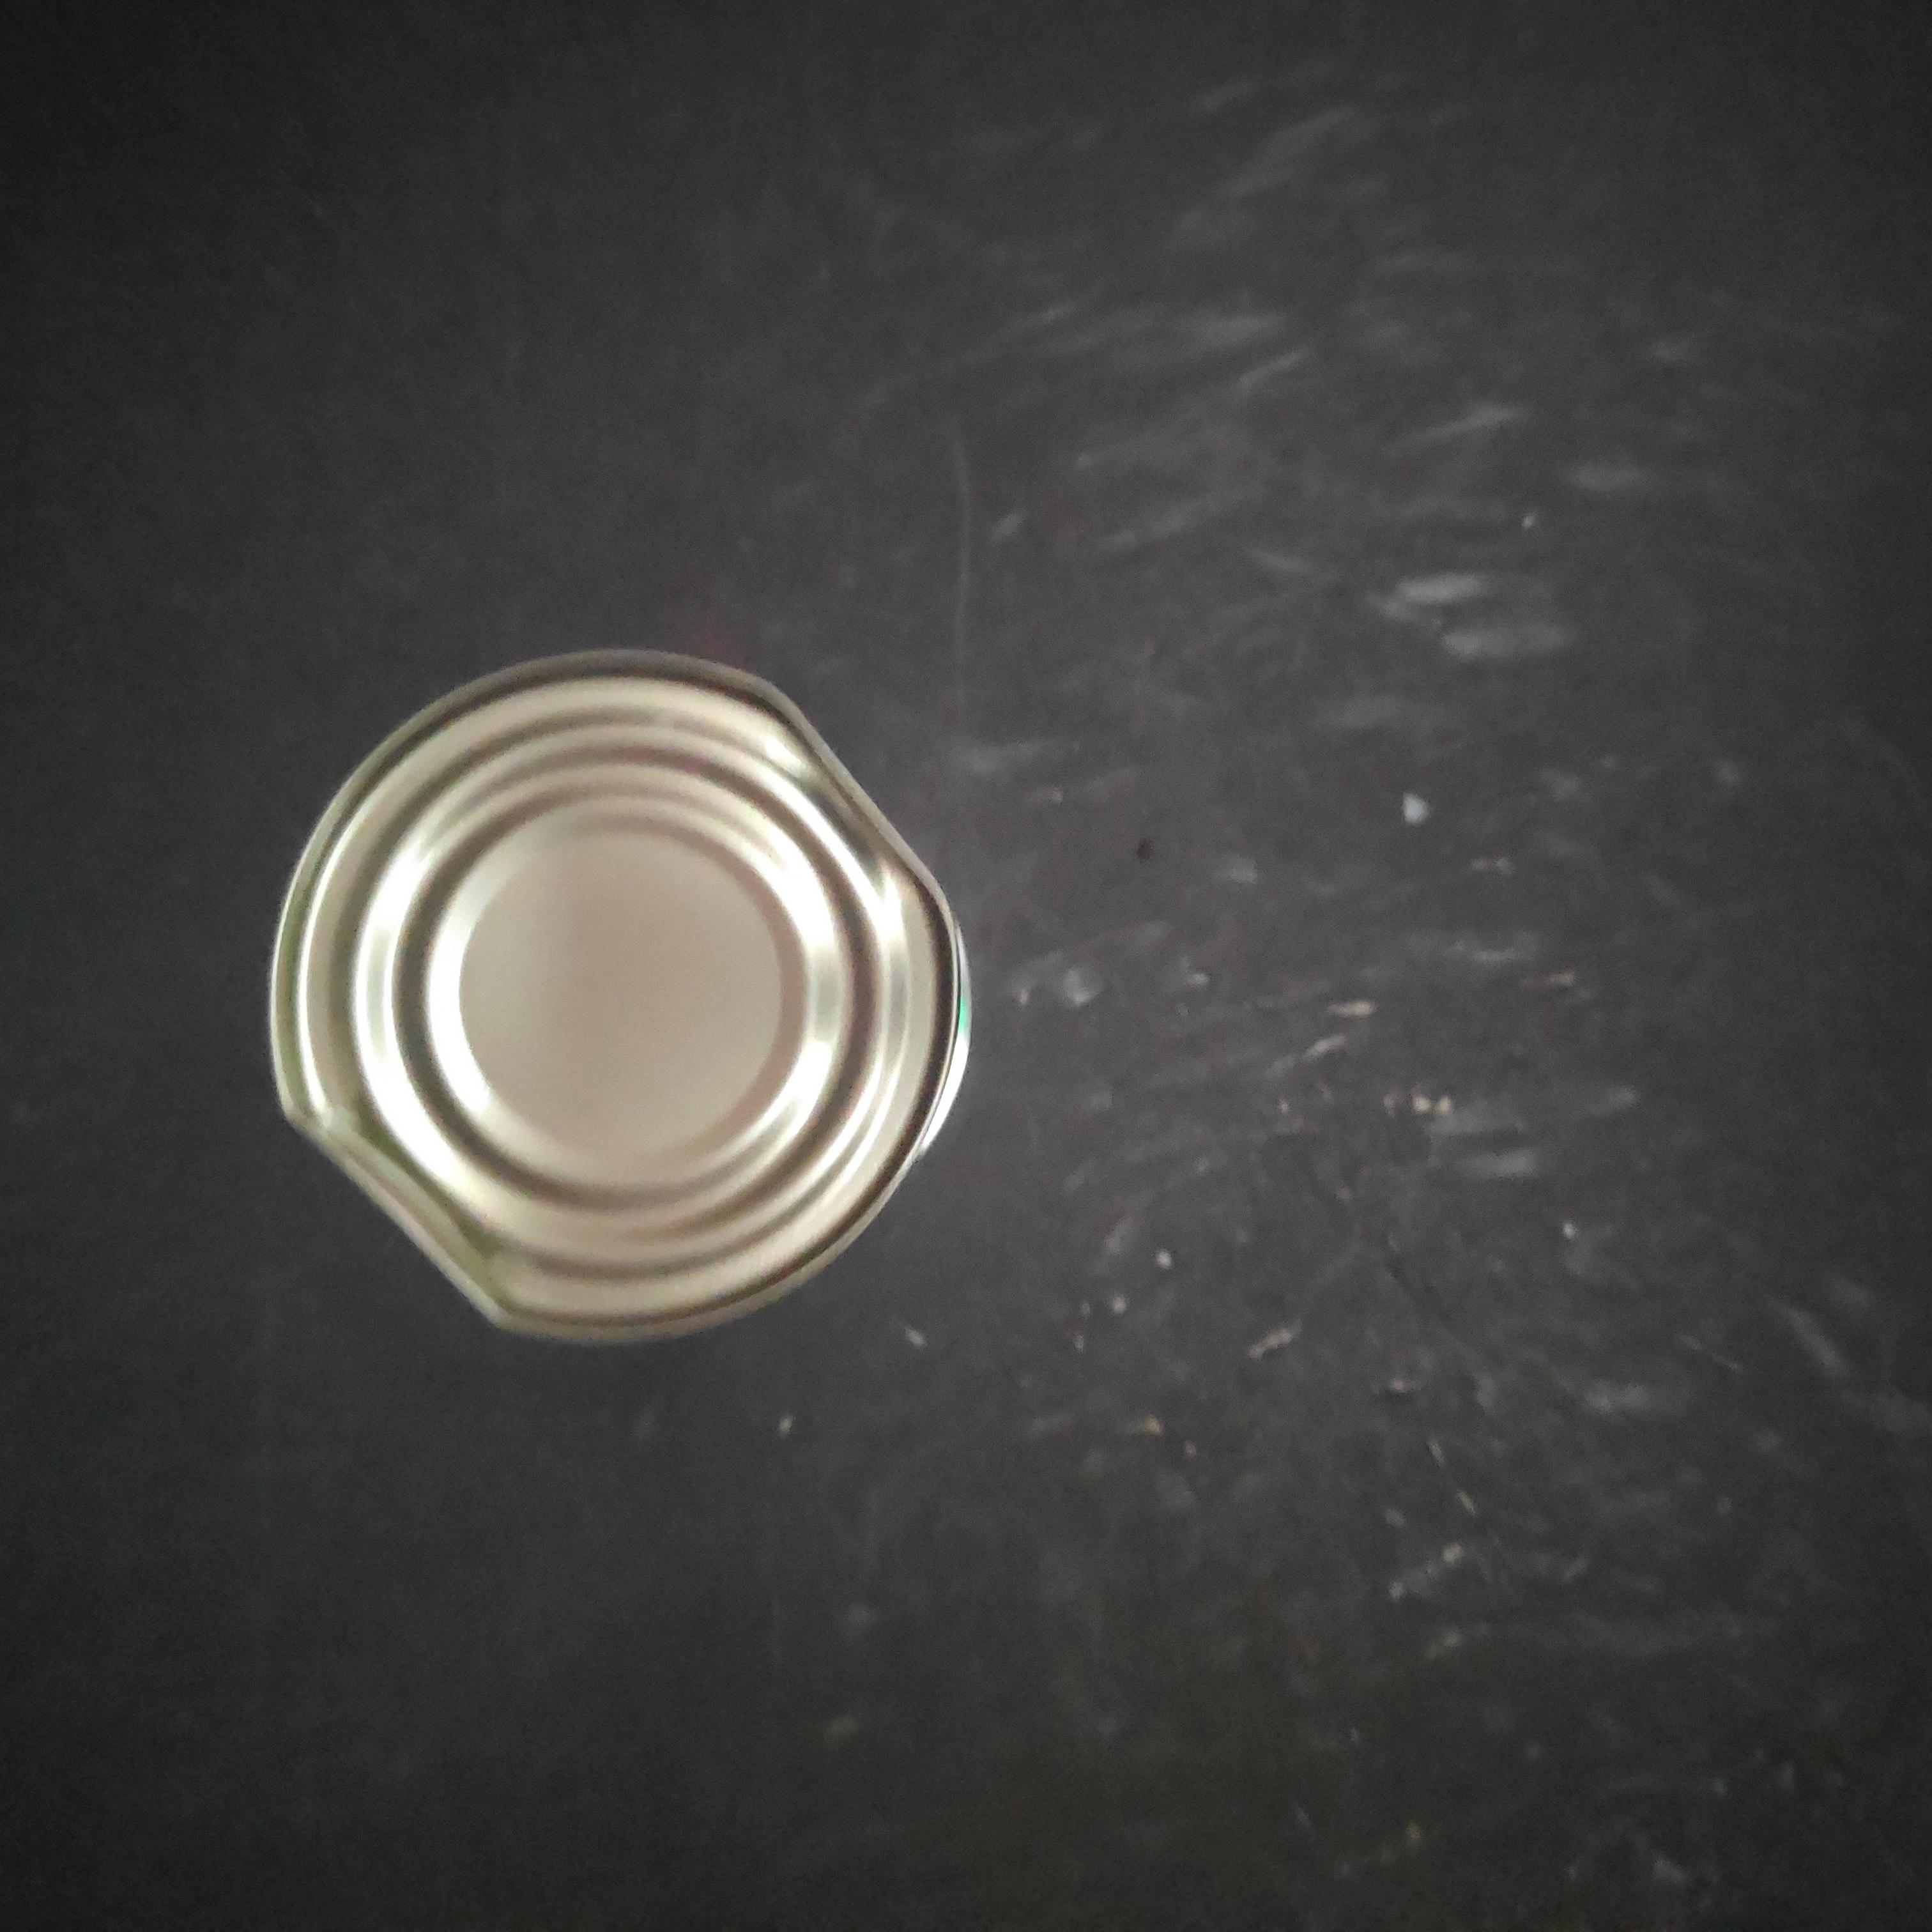Minor Defect: (954, 566, 1683, 1295)
